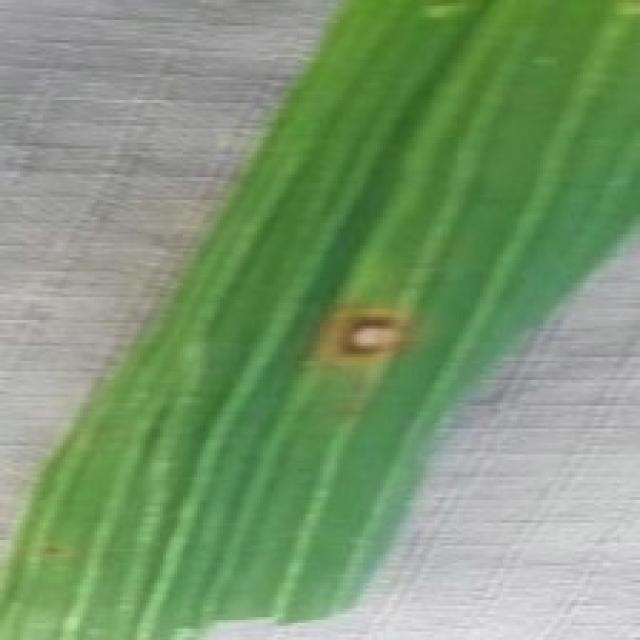Unhealthy: (317, 291, 423, 370)
